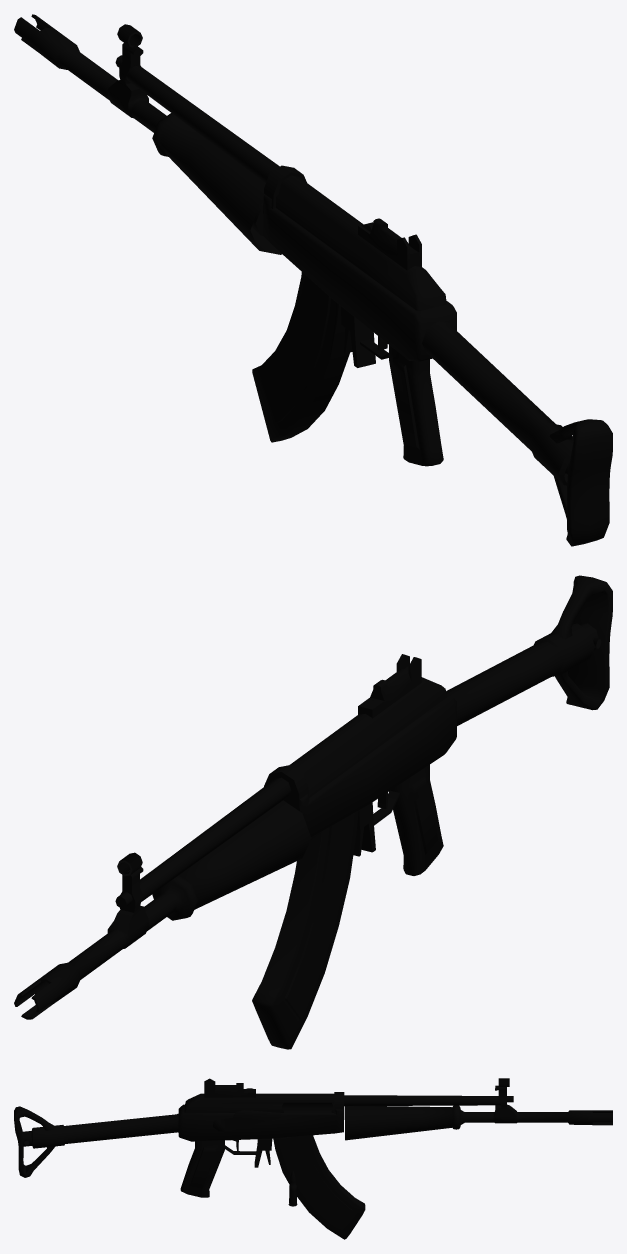
File: Valmet_RK_62.obj
The picture shows the model from 3 angles, top to bottom: view 1: azimuth 30°, elevation 25°; view 2: azimuth 150°, elevation 25°; view 3: azimuth 270°, elevation 25°; orthographic projection. The views are drawn at different scales.
Visible parts, largest first — view 1: Main_Barrel, Ammo_Clip, Main_Body, Stock_Beam, Body_Cover, Stock_End, Pistol_Grip, cylinder, Sight, Secondary_Trigger; view 2: Main_Barrel, Ammo_Clip, Main_Body, Stock_Beam, Body_Cover, Stock_End, cylinder, Pistol_Grip, Sight, cylinder4, Secondary_Trigger; view 3: Main_Barrel, Ammo_Clip, Main_Body, Stock_Beam, Body_Cover, cylinder, Pistol_Grip, Stock_End, Ejection_Lever, Sight, Secondary_Trigger.
Boxes of the visible parts, left/top/right/bottom form: Main_Barrel: left=14, top=14, right=281, bottom=254; Ammo_Clip: left=252, top=272, right=349, bottom=442; Main_Body: left=263, top=194, right=456, bottom=361; Stock_Beam: left=422, top=321, right=573, bottom=485; Body_Cover: left=276, top=175, right=446, bottom=311; Stock_End: left=549, top=419, right=612, bottom=546; Pistol_Grip: left=389, top=345, right=443, bottom=466; cylinder: left=115, top=55, right=279, bottom=182; Sight: left=358, top=218, right=421, bottom=270; Secondary_Trigger: left=341, top=306, right=375, bottom=367; Main_Barrel: left=14, top=800, right=311, bottom=1019; Ammo_Clip: left=252, top=810, right=358, bottom=1049; Main_Body: left=299, top=695, right=456, bottom=837; Stock_Beam: left=446, top=623, right=598, bottom=725; Body_Cover: left=290, top=677, right=446, bottom=797; Stock_End: left=549, top=575, right=612, bottom=710; cylinder: left=115, top=777, right=290, bottom=908; Pistol_Grip: left=389, top=764, right=443, bottom=875; Sight: left=358, top=654, right=421, bottom=718; cylinder4: left=264, top=765, right=309, bottom=811; Secondary_Trigger: left=357, top=802, right=375, bottom=852; Main_Barrel: left=345, top=1085, right=612, bottom=1140; Ammo_Clip: left=273, top=1135, right=365, bottom=1239; Main_Body: left=178, top=1104, right=343, bottom=1141; Stock_Beam: left=21, top=1113, right=178, bottom=1148; Body_Cover: left=184, top=1093, right=334, bottom=1112; cylinder: left=344, top=1095, right=513, bottom=1106; Pistol_Grip: left=180, top=1140, right=224, bottom=1197; Stock_End: left=14, top=1106, right=55, bottom=1177; Ejection_Lever: left=213, top=1110, right=282, bottom=1131; Sight: left=204, top=1078, right=255, bottom=1097; Secondary_Trigger: left=254, top=1138, right=272, bottom=1167.
Size of the model in its own units: 1.34 by 2.9 by 9.89.
